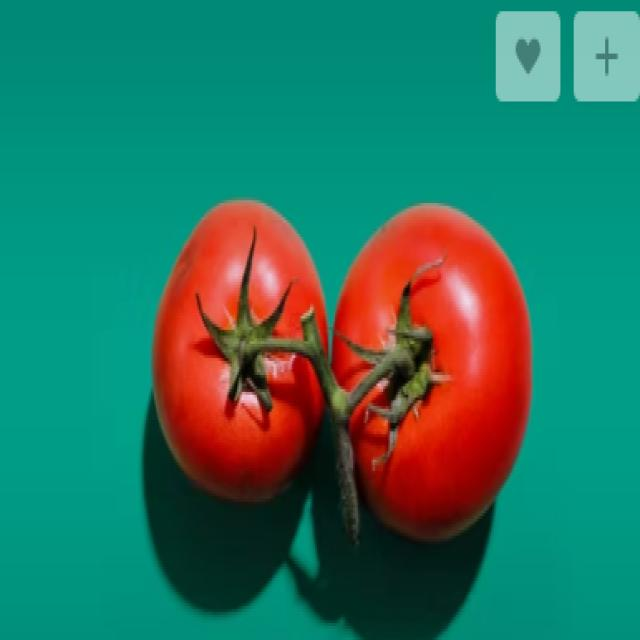Tomato: (315, 193, 541, 561), (134, 181, 338, 524)
